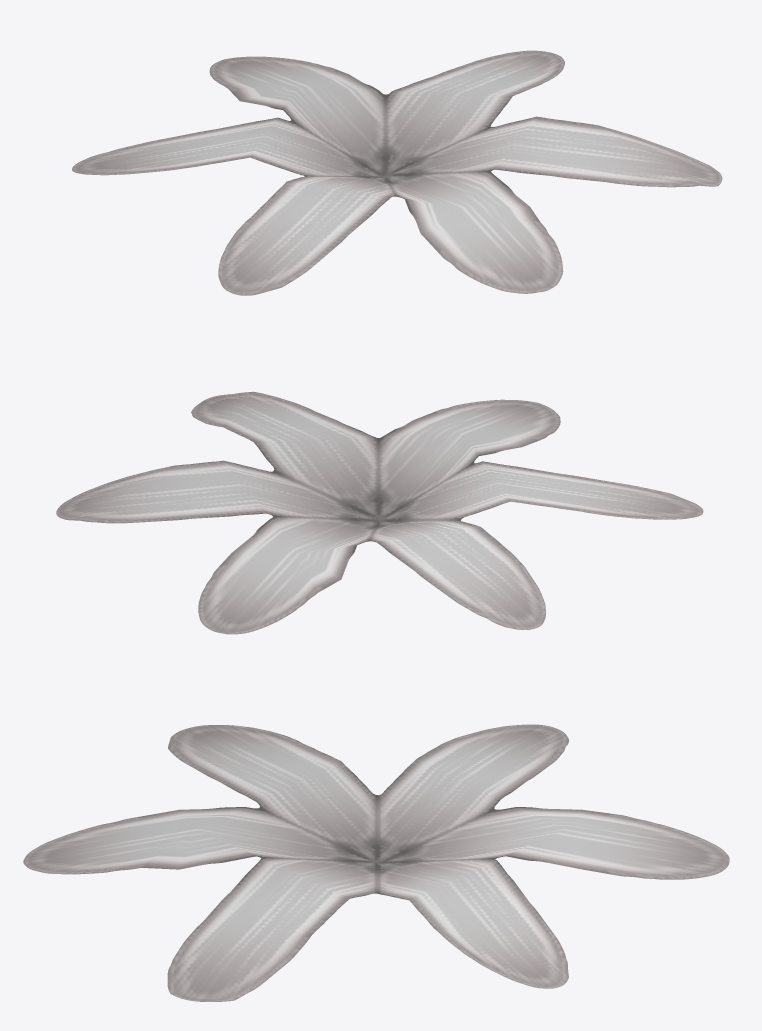
The model's file is Flower01.glb.
3 renders of one model, top to bottom at view 1: azimuth 30°, elevation 25°; view 2: azimuth 150°, elevation 25°; view 3: azimuth 270°, elevation 25°, orthographic. The views are drawn at different scales.
Parts seen in each view (by area): view 1: Flower01; view 2: Flower01; view 3: Flower01.
Boxes of the visible parts, bbox=[...] form: Flower01: bbox=[72, 50, 722, 295]; Flower01: bbox=[56, 391, 703, 634]; Flower01: bbox=[23, 724, 729, 1001].
Bounding box in the file's own units: 0.6029 × 0.0375 × 0.6029.
Materials: 1 (1 with a texture image).
